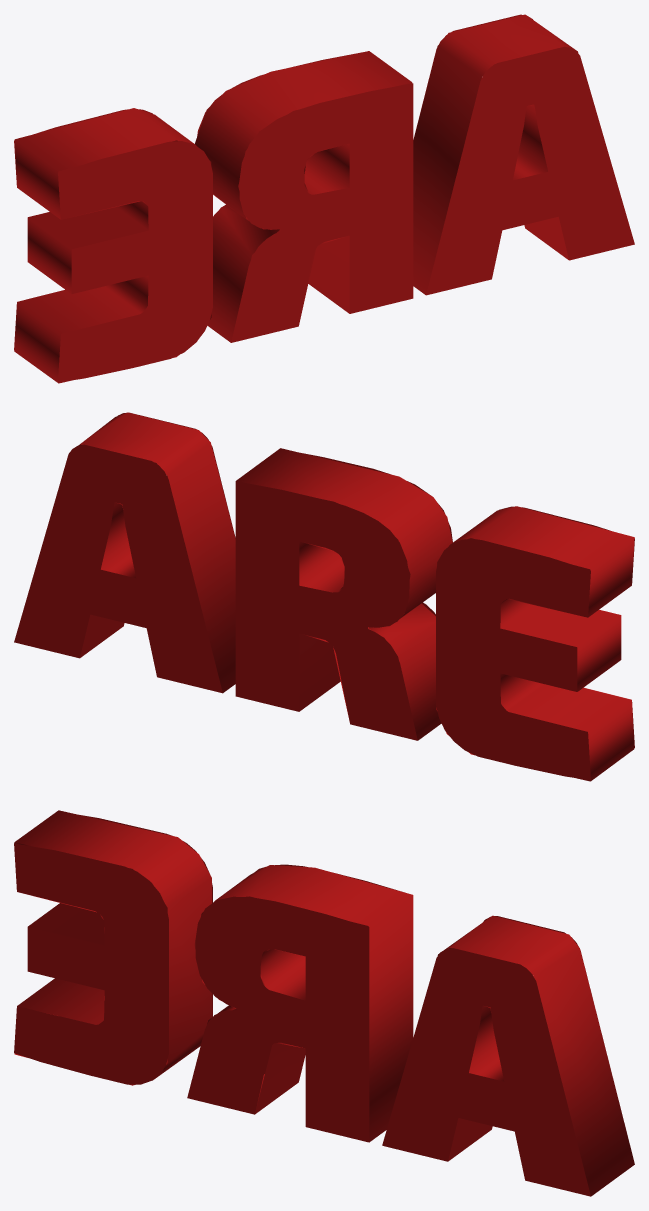
File: are.fbx
The picture shows the model from 3 angles, top to bottom: view 1: azimuth 30°, elevation 25°; view 2: azimuth 150°, elevation 25°; view 3: azimuth 330°, elevation 25°; orthographic projection.
Parts seen in each view (by area): view 1: Text; view 2: Text; view 3: Text.
Part boxes in pixels (x1,y1,x2,y2): Text: (14, 14, 634, 383); Text: (14, 412, 634, 781); Text: (14, 810, 634, 1196).
Bounding box in the file's own units: 6.06 × 2.21 × 0.8.
